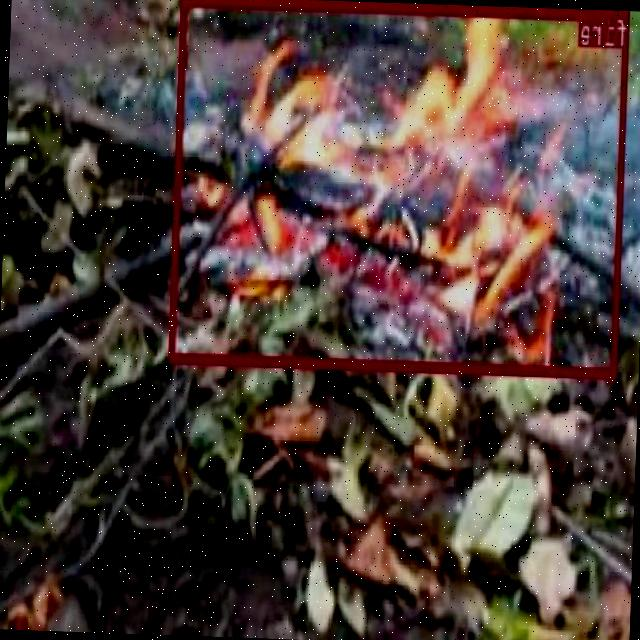fire: (169, 0, 629, 375)
